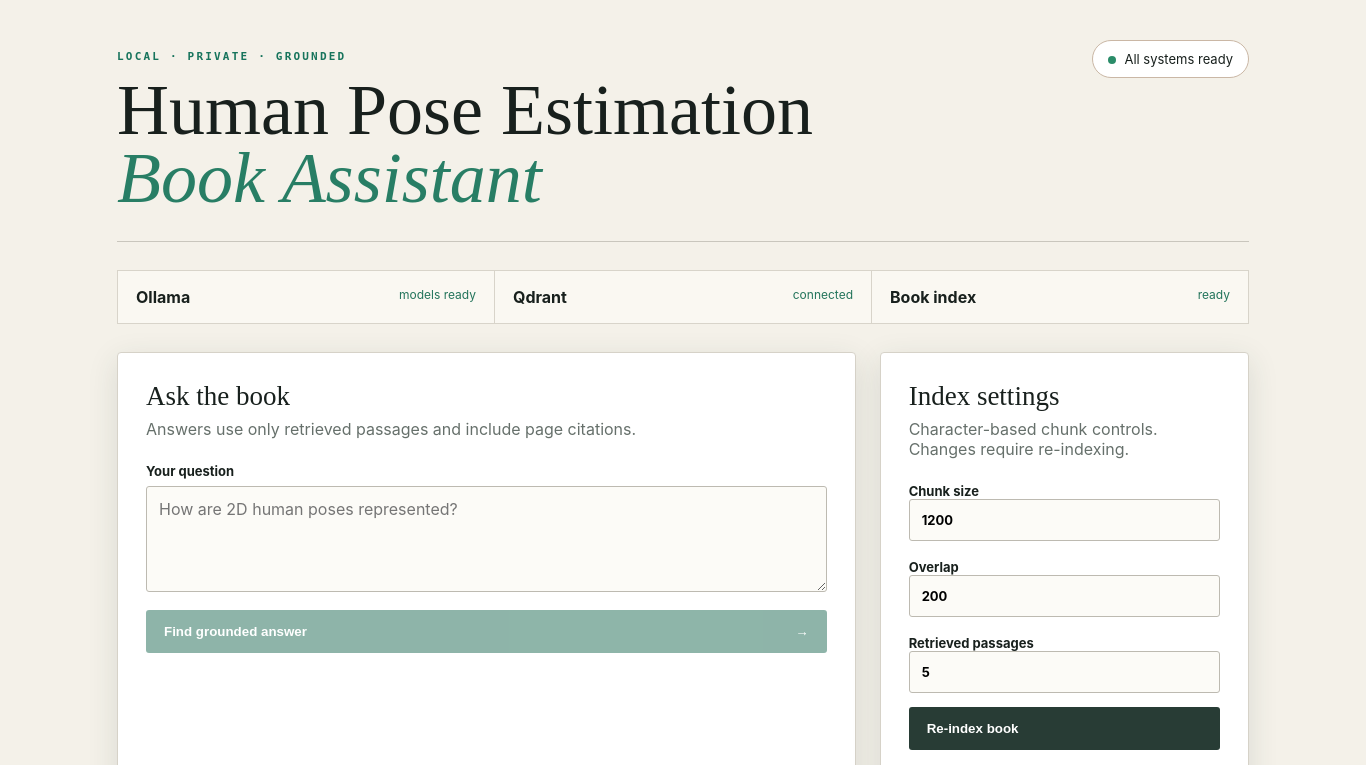
Test: shows errors delivered after a stream has started
Check: the text "All systems ready" is shown, box [1092,40,1249,78]
In the text box labelled "Your question": {"x": 486, "y": 539} [146,486,827,592], type "Why is monocular 3D HPE ambiguous?"
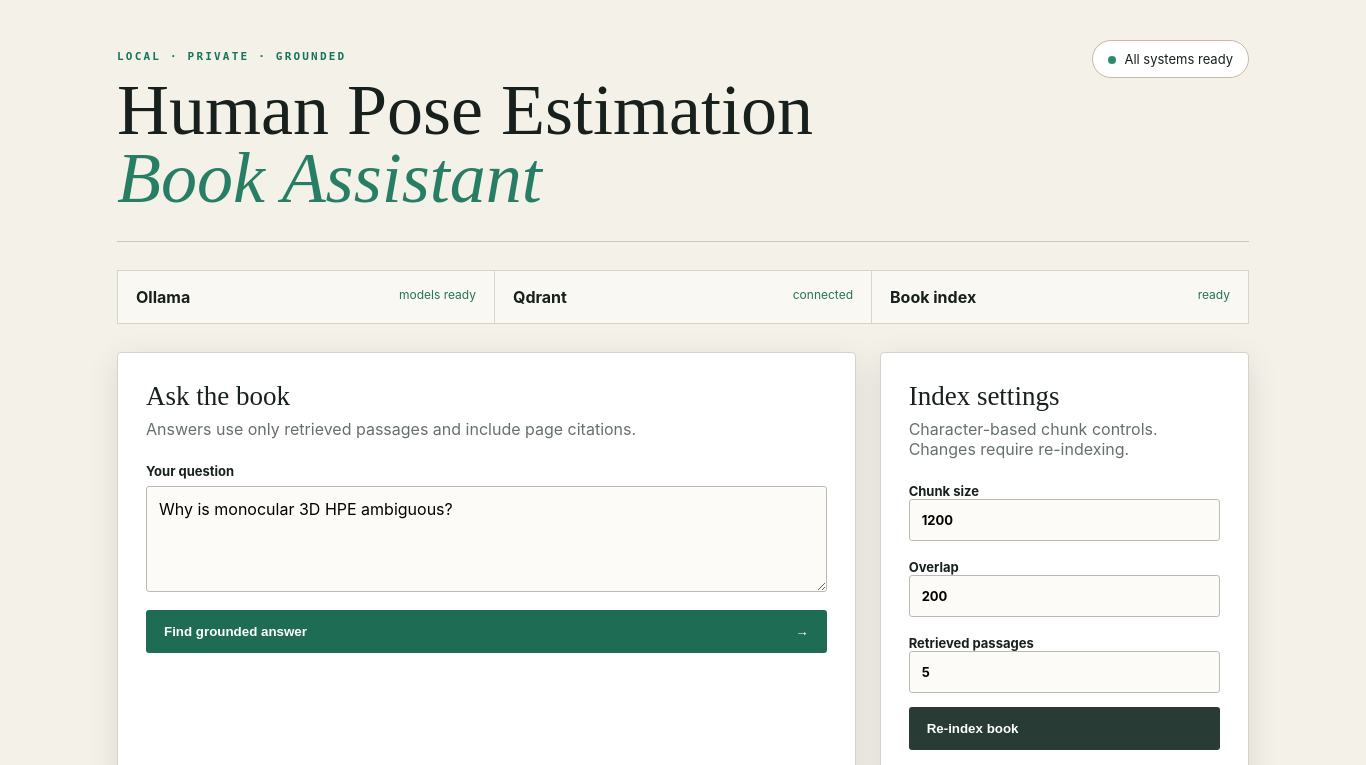
Click the button "Find grounded answer →": {"x": 235, "y": 631} [146,610,827,653]
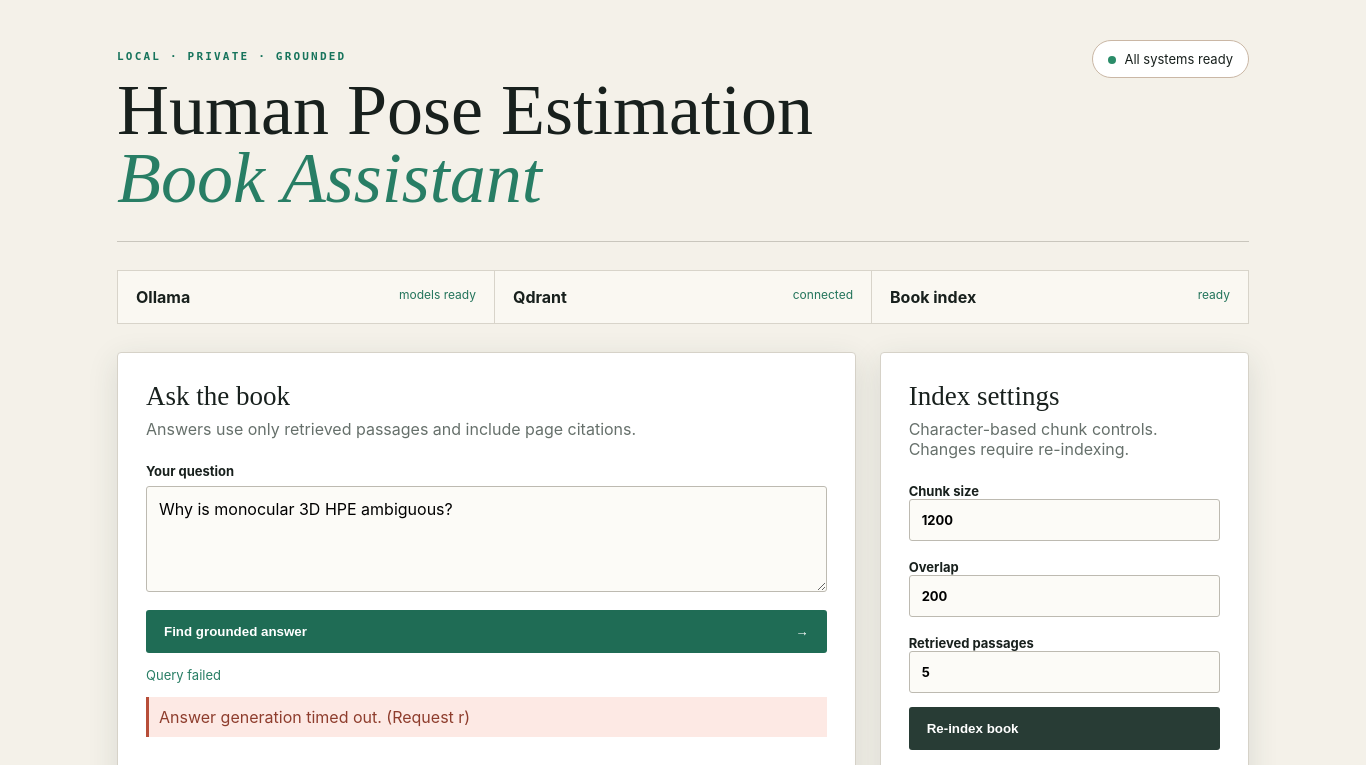
Check: the message "Answer generation timed out. (Request r)" is shown, box [146,697,827,737]
Check: the text "Query failed" is shown, box [146,667,221,683]
